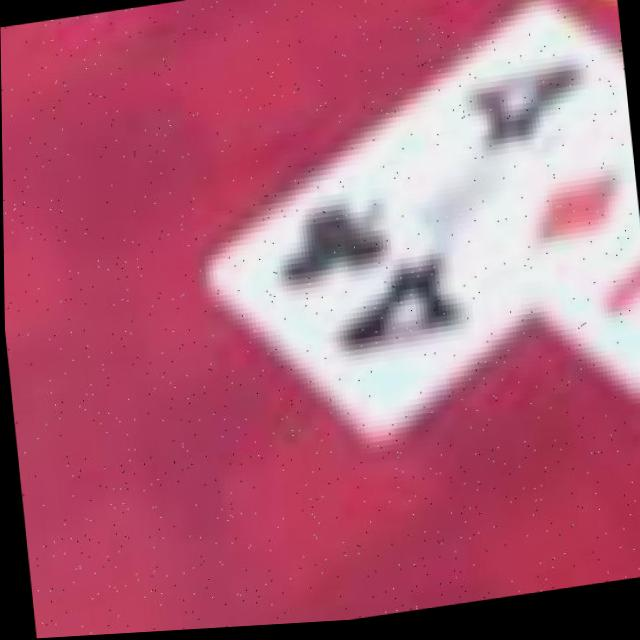Card-4: (211, 1, 623, 450)
